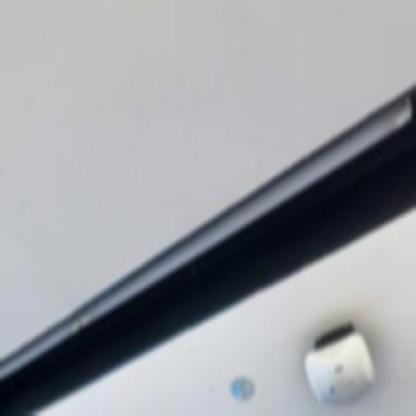light_off: (0, 81, 415, 407)
